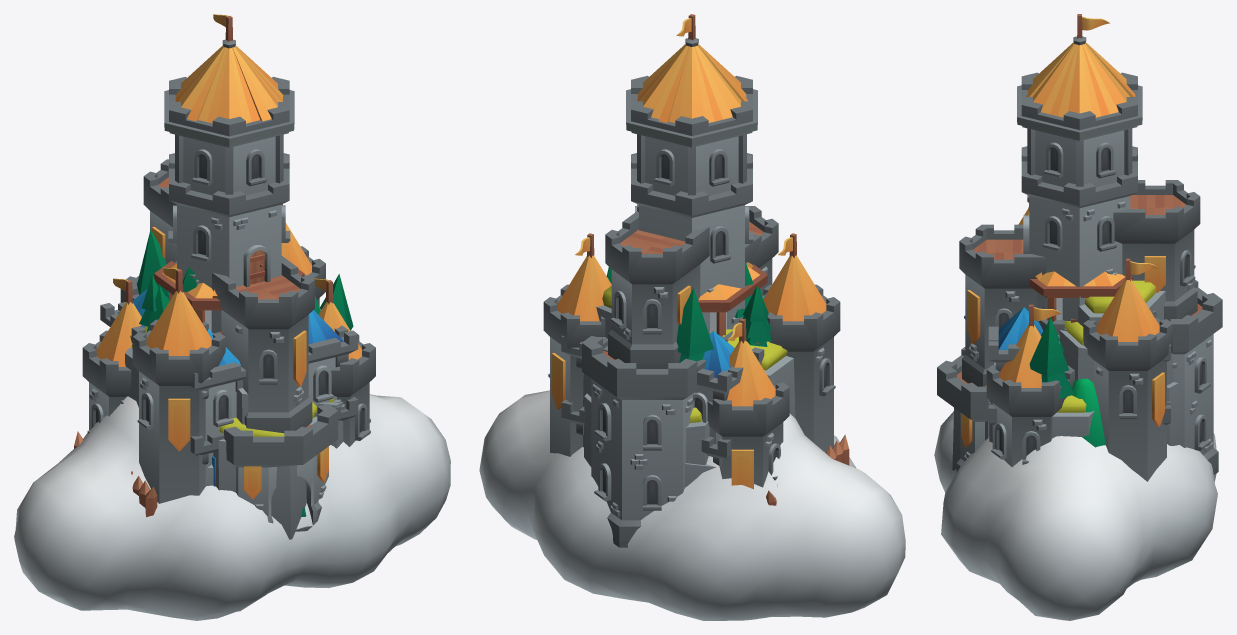
The model's file is medieval.glb.
The picture shows the model from 3 angles, left to right: view 1: azimuth 30°, elevation 25°; view 2: azimuth 150°, elevation 25°; view 3: azimuth 270°, elevation 25°; orthographic projection. The views are drawn at different scales.
Parts seen in each view (by area): view 1: building_castle_yellow, cloud_big, building_barracks_blue, mountain_C_grass_trees, mountain_A_grass_trees, building_tower_A_top_yellow, fence_wood_straight; view 2: building_castle_yellow, cloud_big, mountain_C_grass_trees, building_barracks_blue, mountain_A_grass_trees, building_tower_A_top_yellow, mountain_B_grass; view 3: building_castle_yellow, cloud_big, mountain_B_grass, building_tower_A_top_yellow, building_barracks_blue, mountain_A_grass_trees, mountain_C_grass_trees, trees_B_medium.
Part boxes in pixels (bbox=[...]): building_castle_yellow: bbox=[82, 14, 375, 531]; cloud_big: bbox=[14, 394, 450, 620]; building_barracks_blue: bbox=[100, 289, 358, 486]; mountain_C_grass_trees: bbox=[125, 267, 343, 539]; mountain_A_grass_trees: bbox=[137, 229, 353, 448]; building_tower_A_top_yellow: bbox=[154, 261, 304, 334]; fence_wood_straight: bbox=[74, 431, 157, 517]; building_castle_yellow: bbox=[543, 14, 840, 547]; cloud_big: bbox=[479, 390, 905, 620]; mountain_C_grass_trees: bbox=[584, 261, 795, 466]; building_barracks_blue: bbox=[561, 293, 766, 465]; mountain_A_grass_trees: bbox=[583, 267, 771, 488]; building_tower_A_top_yellow: bbox=[698, 262, 767, 336]; mountain_B_grass: bbox=[583, 286, 715, 487]; building_castle_yellow: bbox=[937, 14, 1222, 481]; cloud_big: bbox=[934, 411, 1217, 620]; mountain_B_grass: bbox=[1052, 280, 1173, 438]; building_tower_A_top_yellow: bbox=[1029, 271, 1132, 322]; building_barracks_blue: bbox=[988, 307, 1170, 424]; mountain_A_grass_trees: bbox=[989, 318, 1074, 442]; mountain_C_grass_trees: bbox=[952, 317, 1179, 470]; trees_B_medium: bbox=[1072, 378, 1105, 447].
Size of the model in its own units: 3.61 by 4.89 by 2.28.
Materials: 1 (1 with a texture image).
